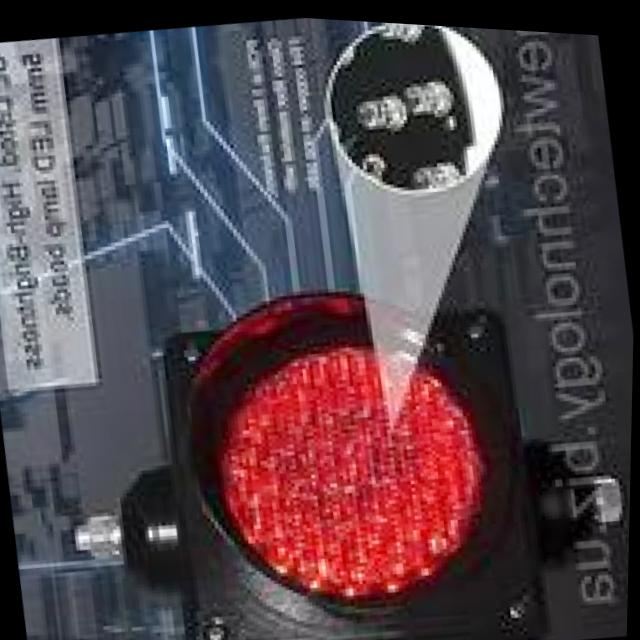red_light: (125, 212, 569, 640)
